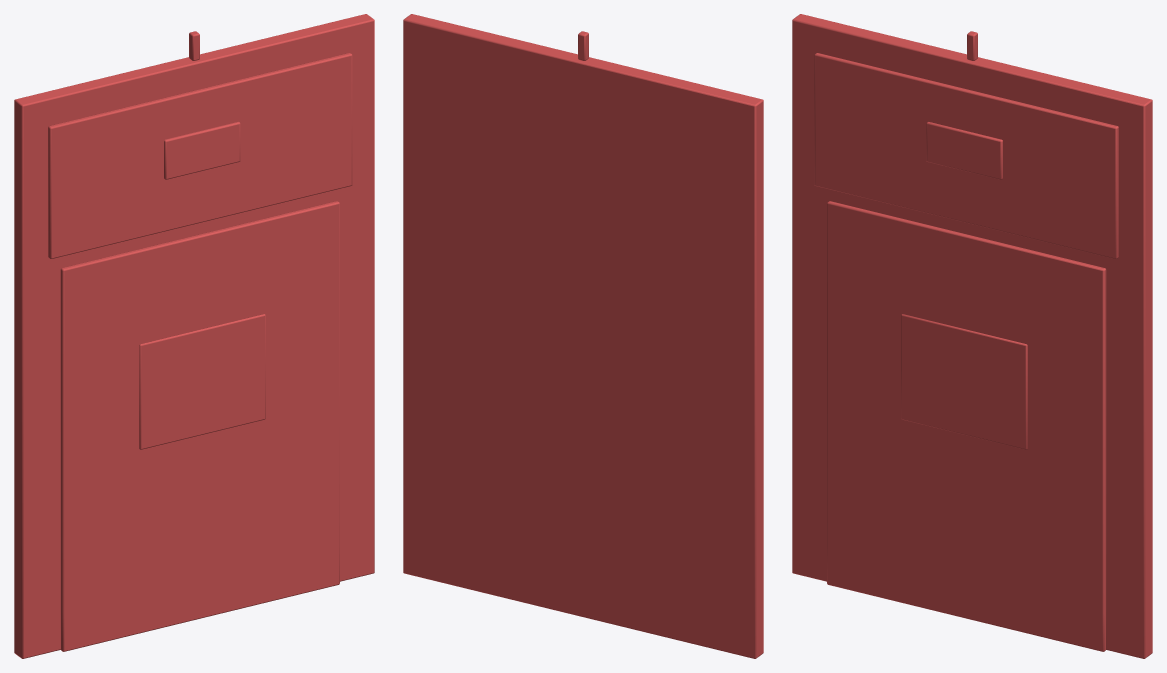
Rendered from LichAm_TreoTuong.glb.
The picture shows the model from 3 angles, left to right: view 1: azimuth 30°, elevation 25°; view 2: azimuth 150°, elevation 25°; view 3: azimuth 330°, elevation 25°; orthographic projection.
Parts seen in each view (by area): view 1: LichAm_TreoTuong; view 2: LichAm_TreoTuong; view 3: LichAm_TreoTuong.
Boxes of the visible parts, bbox=[...] form: LichAm_TreoTuong: bbox=[14, 14, 374, 658]; LichAm_TreoTuong: bbox=[403, 14, 763, 658]; LichAm_TreoTuong: bbox=[792, 14, 1152, 658].
Bounding box in the file's own units: 0.28 × 0.44 × 0.018.
